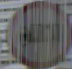Heavy Vehicles: (3, 11, 66, 55)
